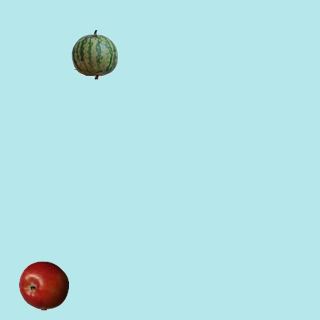Apple Braeburn: (18, 260, 68, 310)
Watermelon: (69, 29, 119, 79)
